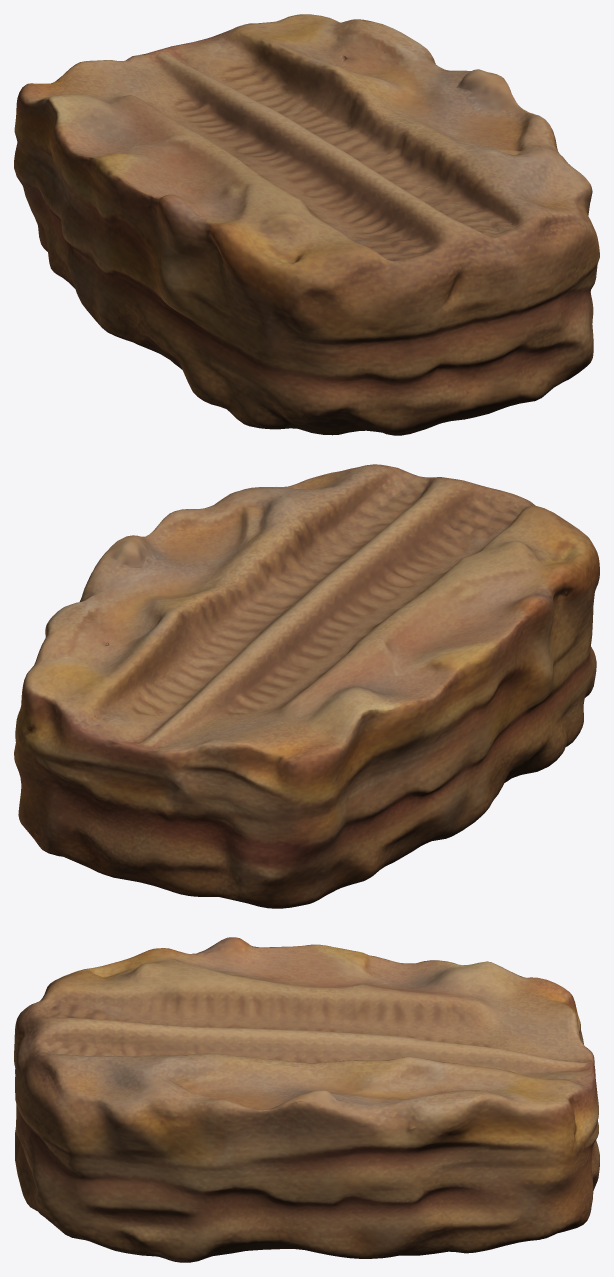
3 views of the same model, one above another, from view 1: azimuth 30°, elevation 25°; view 2: azimuth 150°, elevation 25°; view 3: azimuth 270°, elevation 25° (orthographic). The views are drawn at different scales.
Visible parts, largest first — view 1: world; view 2: world; view 3: world.
Boxes of the visible parts, <box> form: world: <box>14,14,599,435</box>; world: <box>14,464,599,908</box>; world: <box>14,937,599,1262</box>.
Size of the model in its own units: 0.2038 by 0.102 by 0.3.
Materials: 1 (1 with a texture image).
